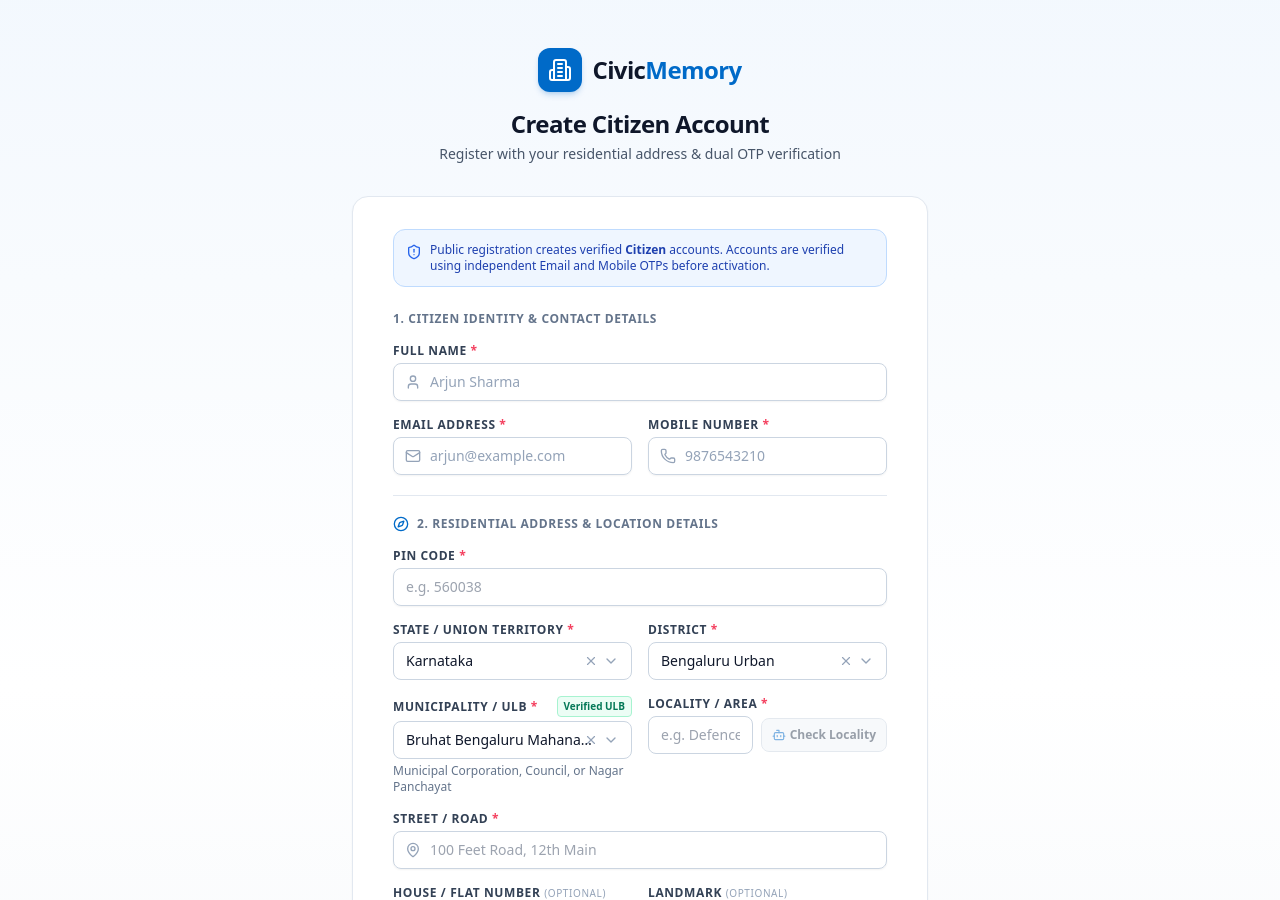
RegisterPage — Citizen Registration & Address Selection Enhancement › 2. Changing State resets dependent District, ULB, and Locality
Expected: the text "Karnataka" is shown, top-left (406, 651), bottom-right (473, 671)
Expected: the text "Bengaluru Urban" is shown, top-left (661, 651), bottom-right (775, 671)
// Open State dropdown and select Maharashtra
Click the dropdown named "state": (512,661) top-left (393, 642), bottom-right (632, 680)
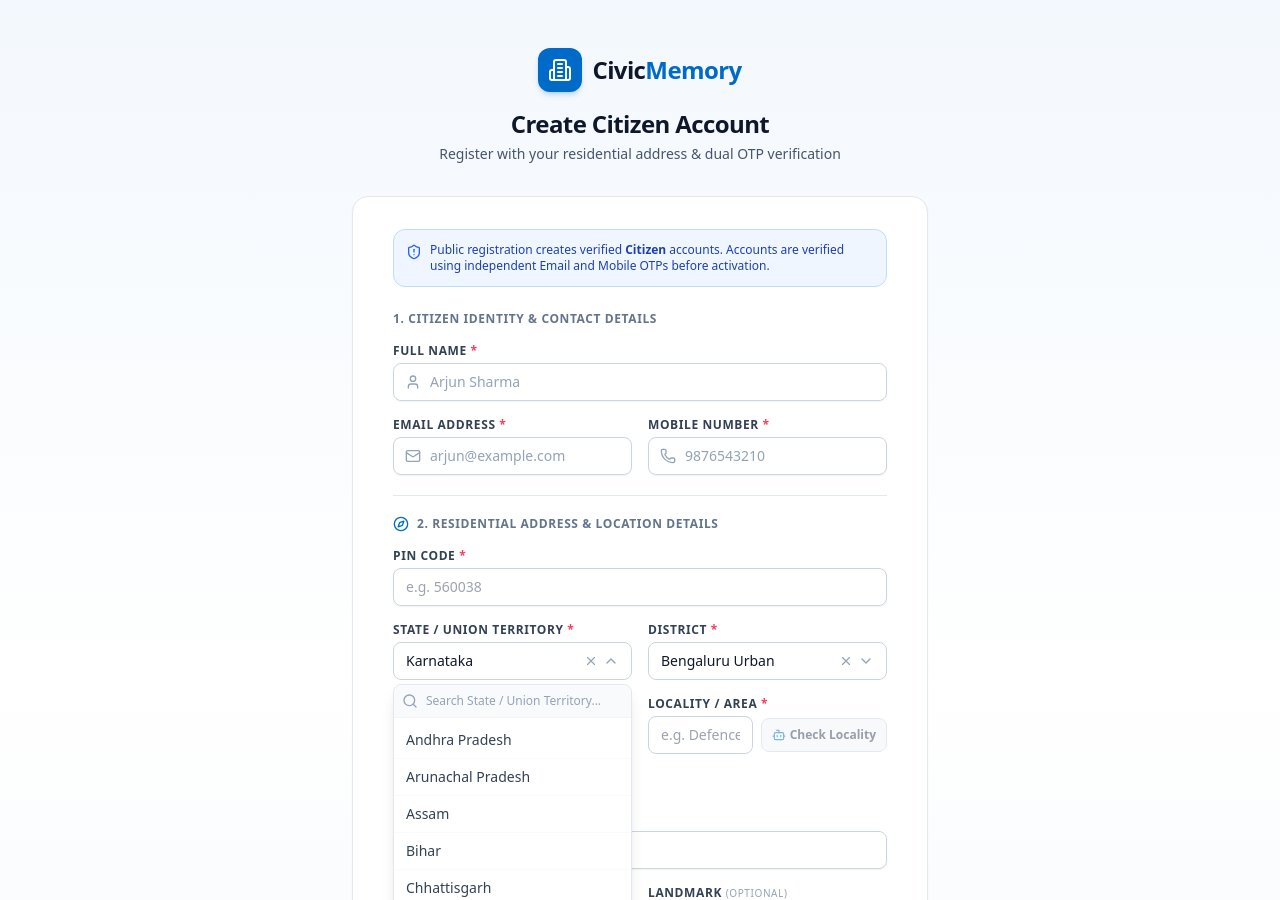
In the field with placeholder "Search State / Union Territory...": (524,701) top-left (426, 693), bottom-right (623, 709), type "Maharashtra"
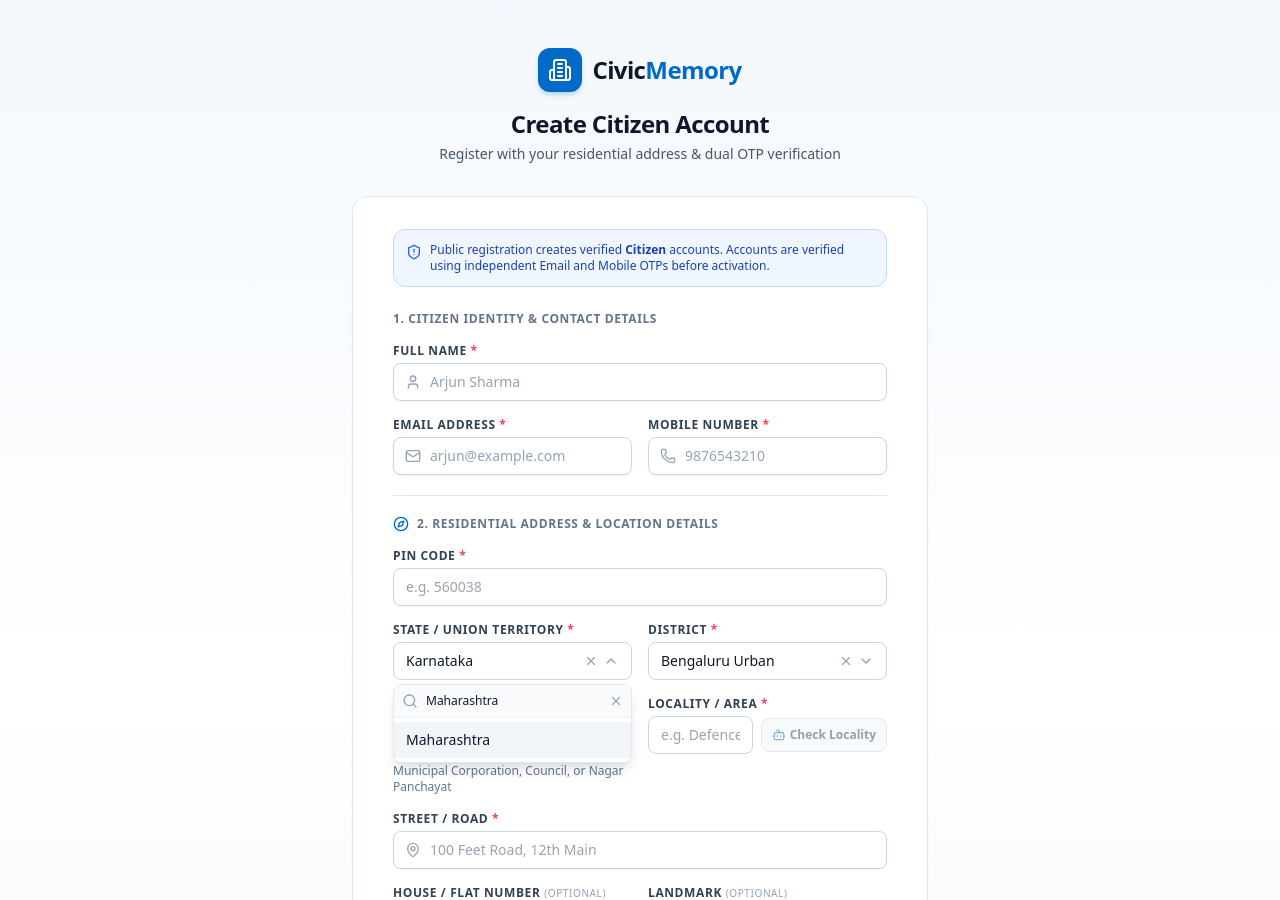
Click the option "Maharashtra": (512,740) top-left (394, 722), bottom-right (631, 758)
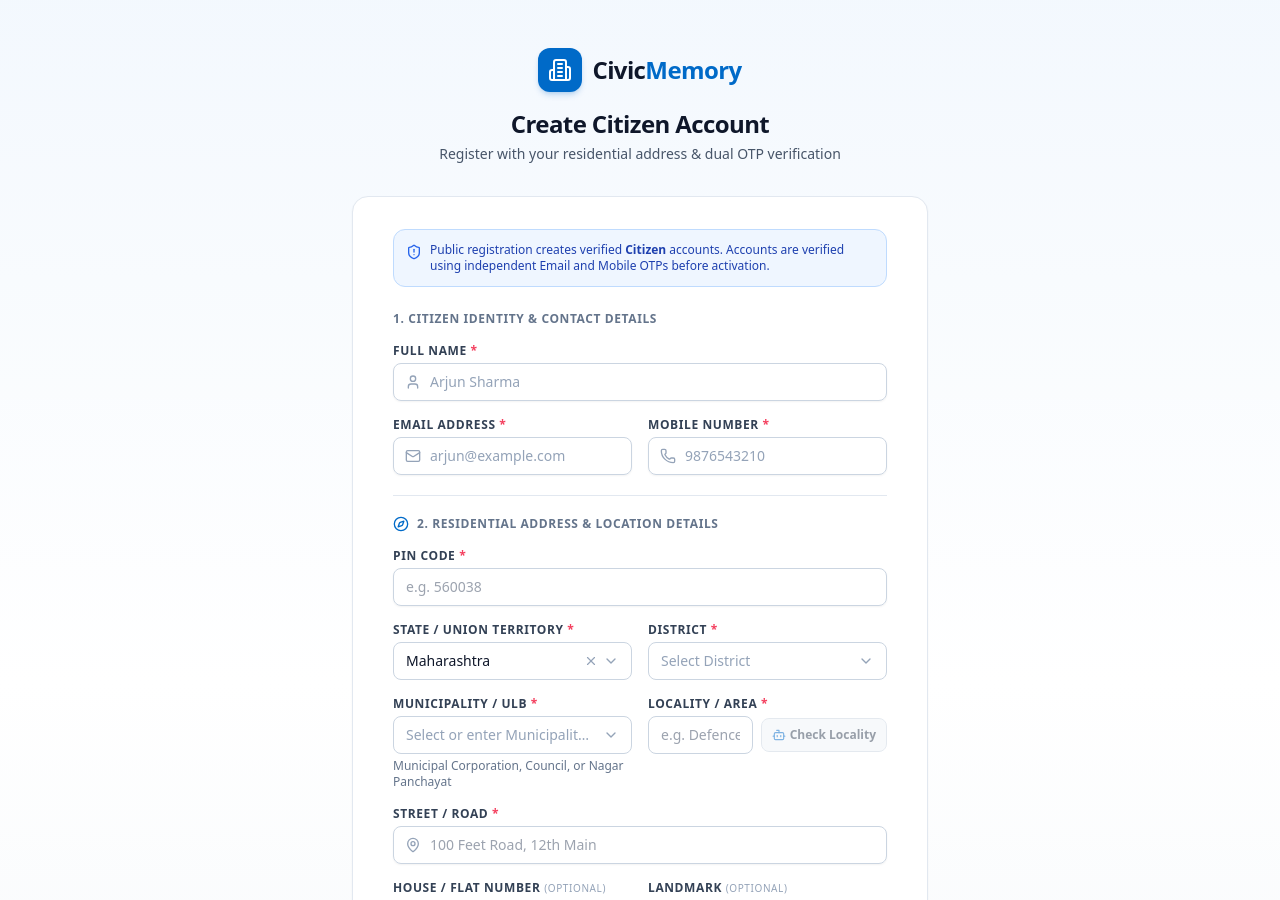
Now the dropdown "Bengaluru Urban" is gone
Now the text "Select District" is shown, box top-left (661, 651), bottom-right (750, 671)
Click the dropdown labelled "Select District": (768,661) top-left (648, 642), bottom-right (887, 680)
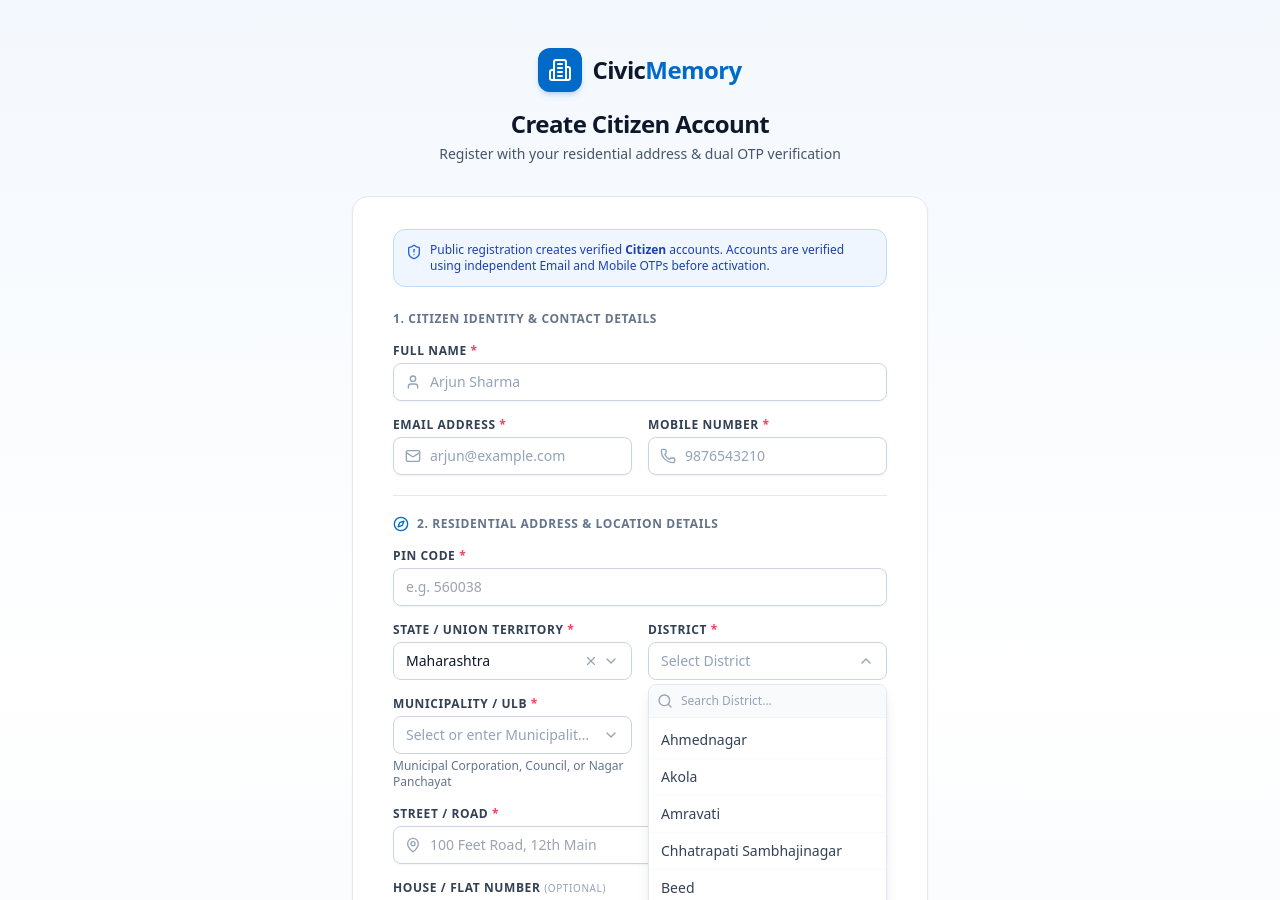
In the field with placeholder "Search District...": (780,701) top-left (681, 693), bottom-right (878, 709), type "Pune"
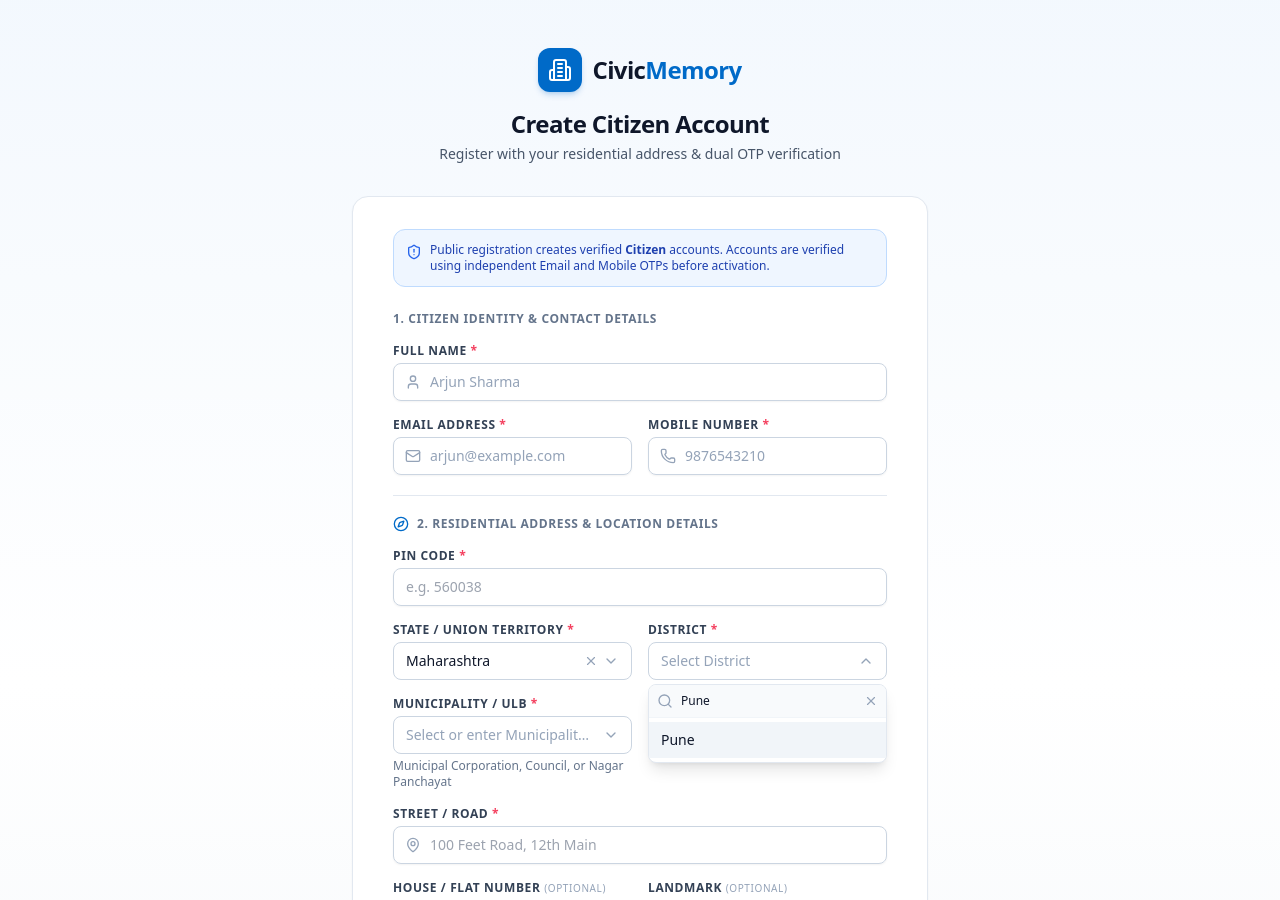
Now the option "Pune" is shown
Click the option "Pune": (768,740) top-left (649, 722), bottom-right (886, 758)
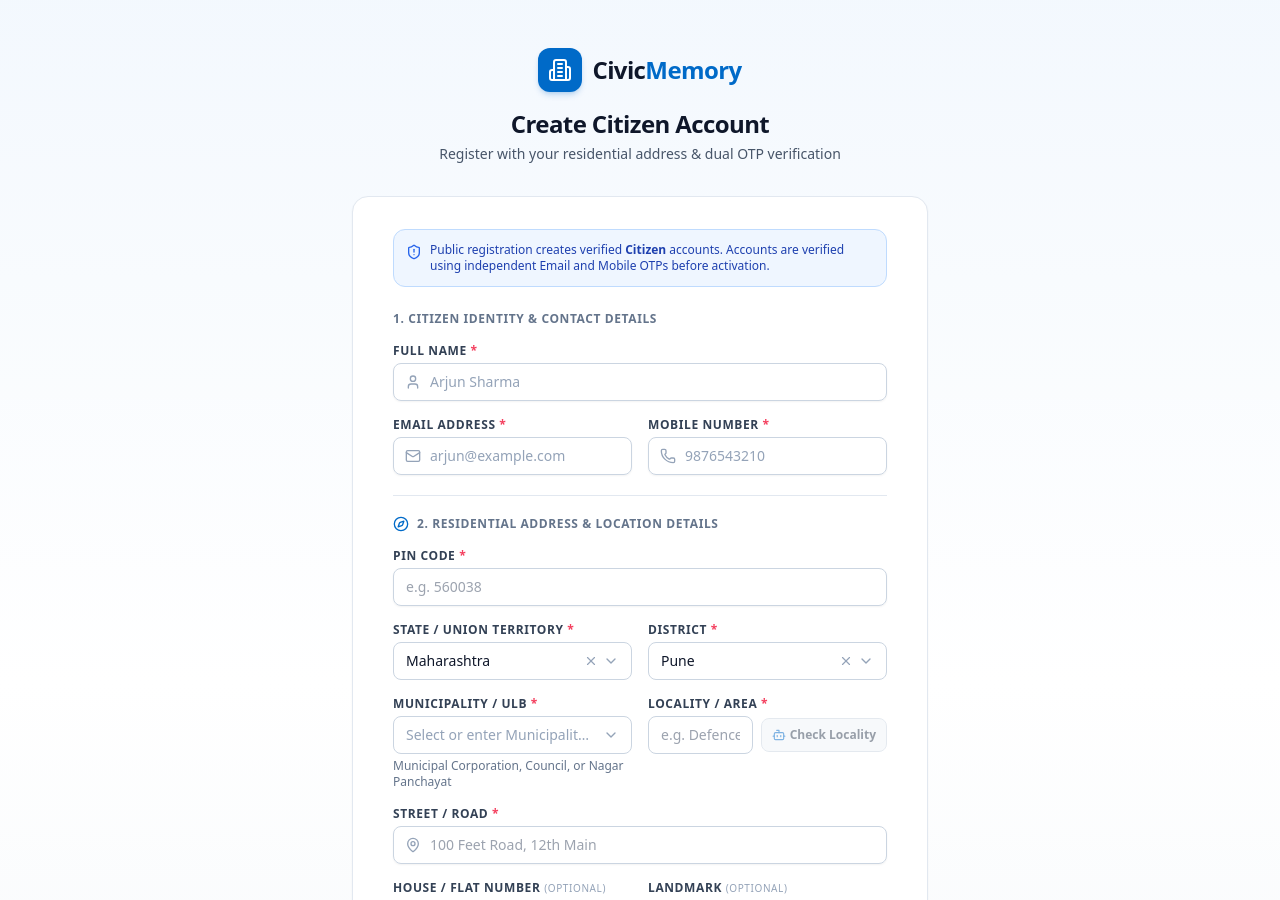
Now the text "Pune" is shown, box top-left (661, 651), bottom-right (695, 671)
